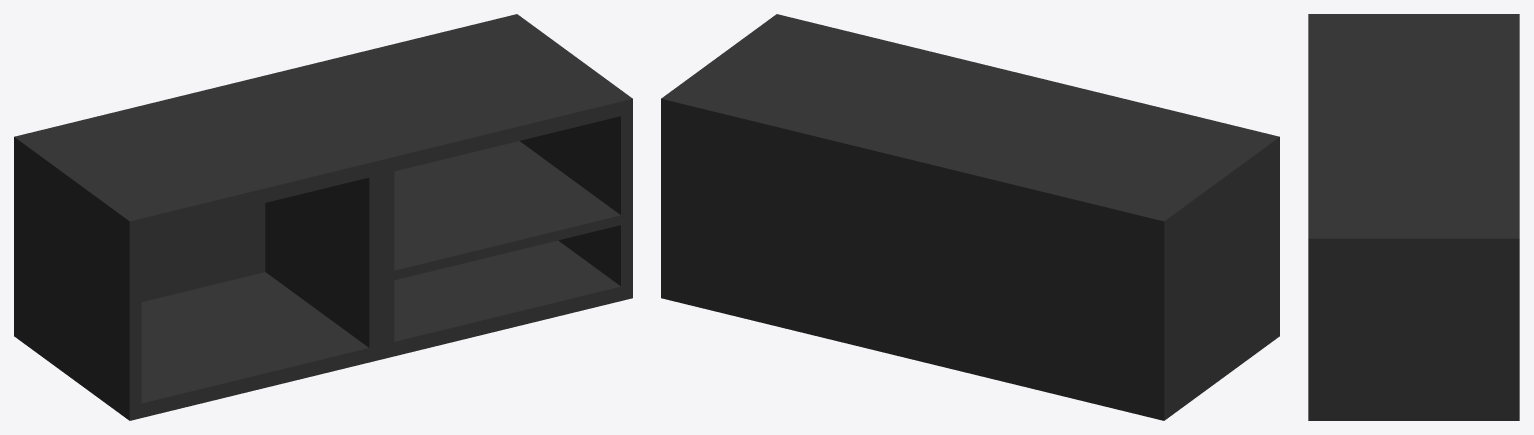
Rendered from SM_TVStand.FBX.
3 views of the same model, side by side, from view 1: azimuth 30°, elevation 25°; view 2: azimuth 150°, elevation 25°; view 3: azimuth 270°, elevation 25° (orthographic). The views are drawn at different scales.
Parts seen in each view (by area): view 1: TVstand001; view 2: TVstand001; view 3: TVstand001.
Boxes of the visible parts, <box> form: TVstand001: <box>14,14,632,420</box>; TVstand001: <box>661,14,1279,420</box>; TVstand001: <box>1308,14,1519,420</box>.
Bounding box in the file's own units: 58.31 × 22.1 × 23.23.
